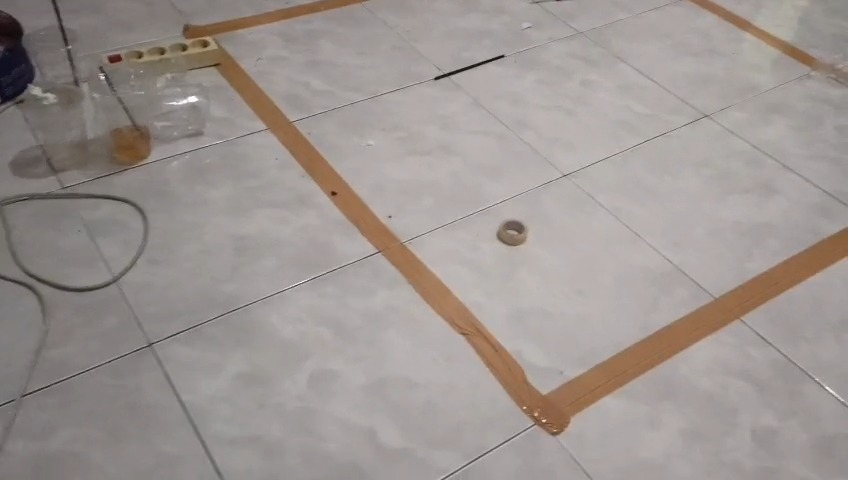floor marking: (217, 52, 847, 434), (689, 0, 837, 72), (184, 0, 357, 38)
